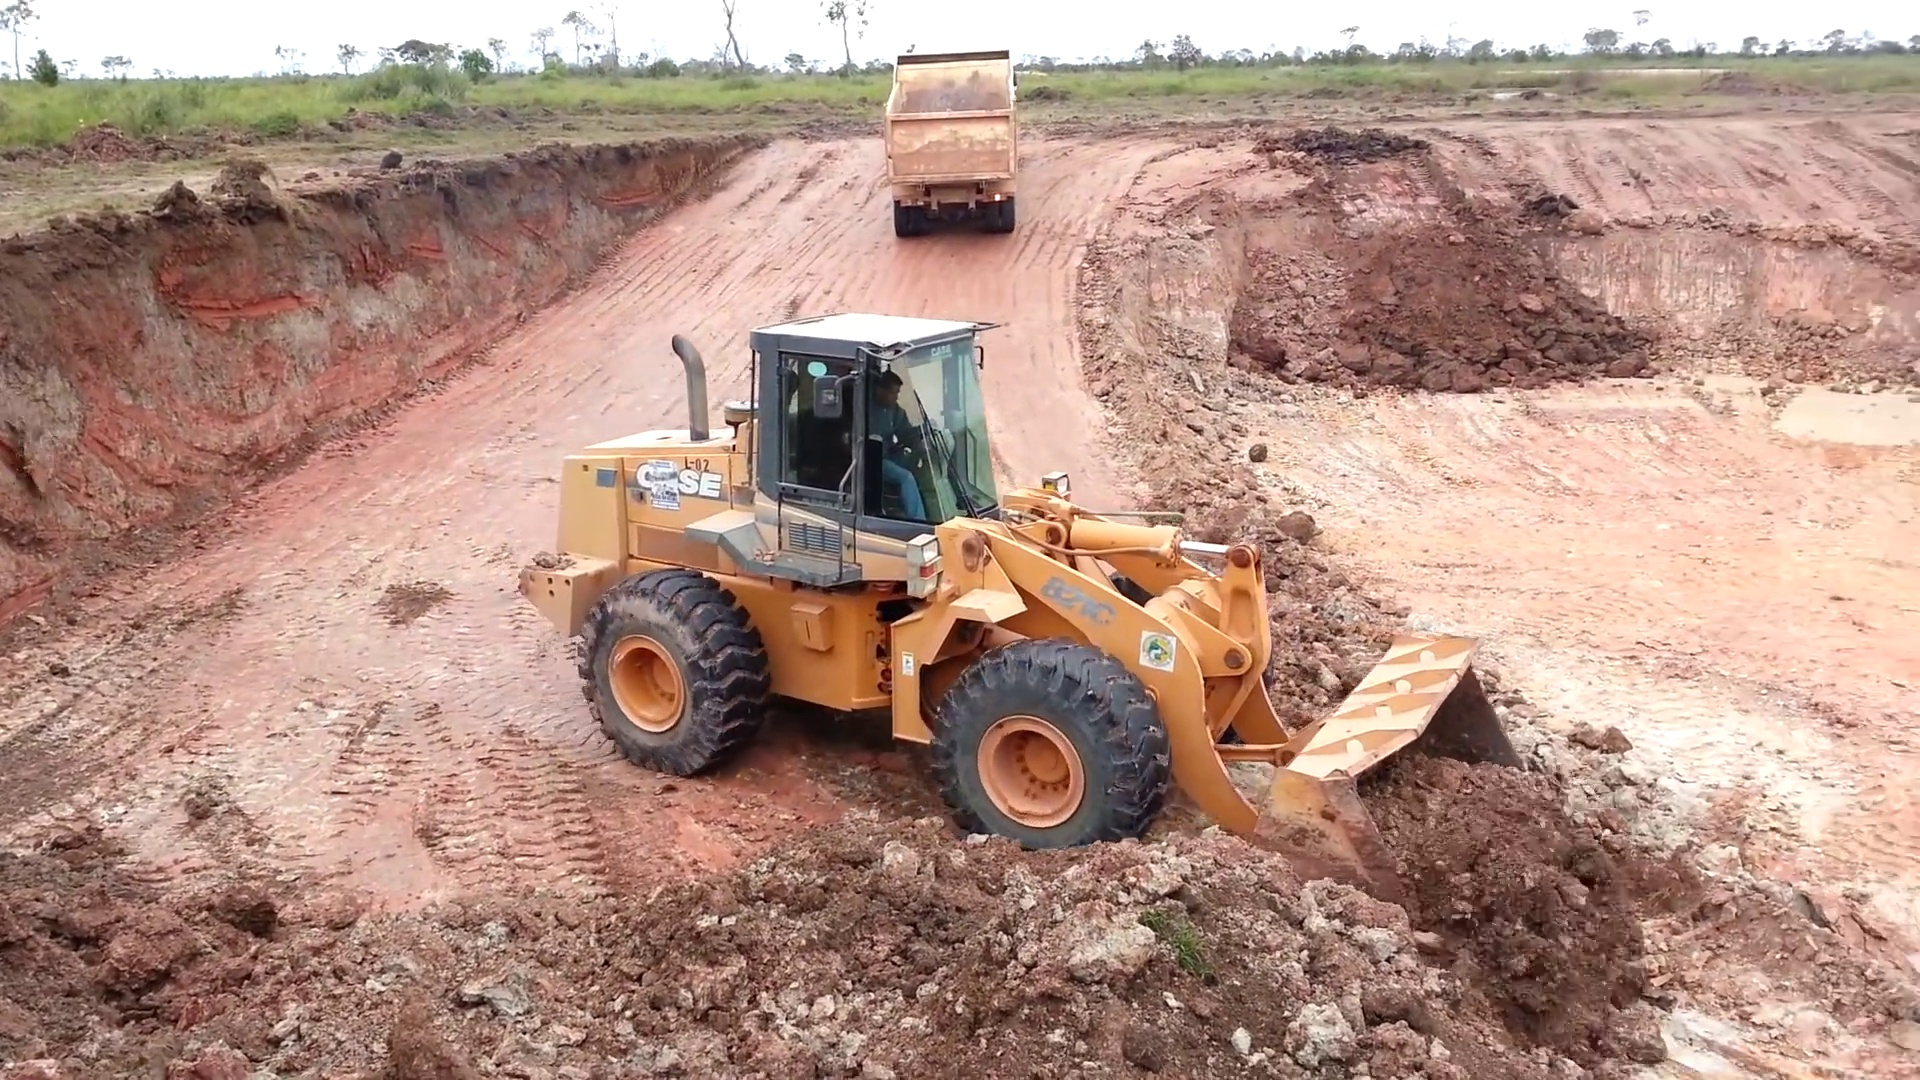truck: (885, 51, 1023, 237)
wheel loader: (520, 309, 1538, 910)
